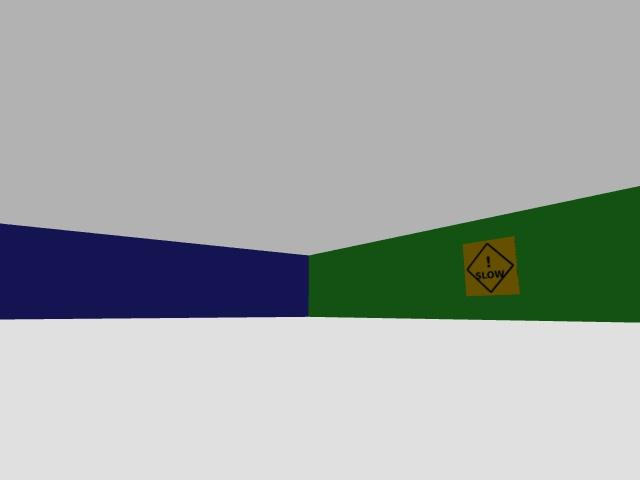slow: (465, 237, 519, 295)
